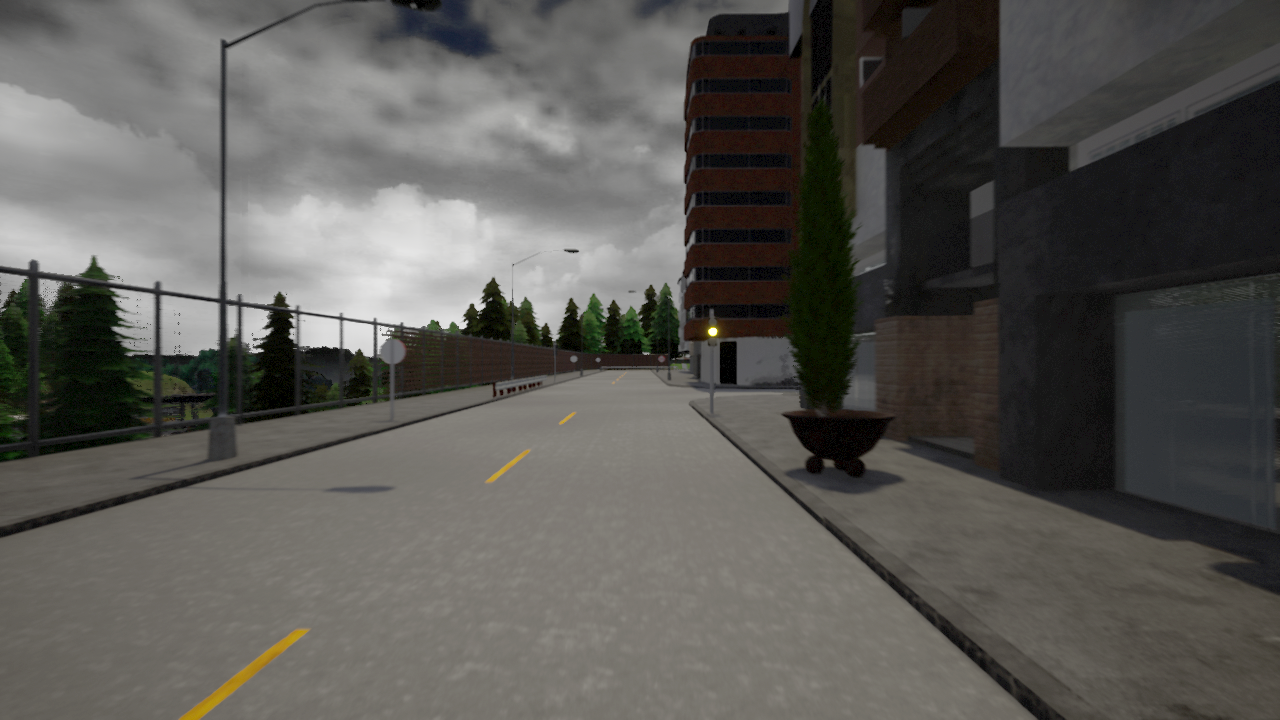yellow: (707, 317, 720, 347)
